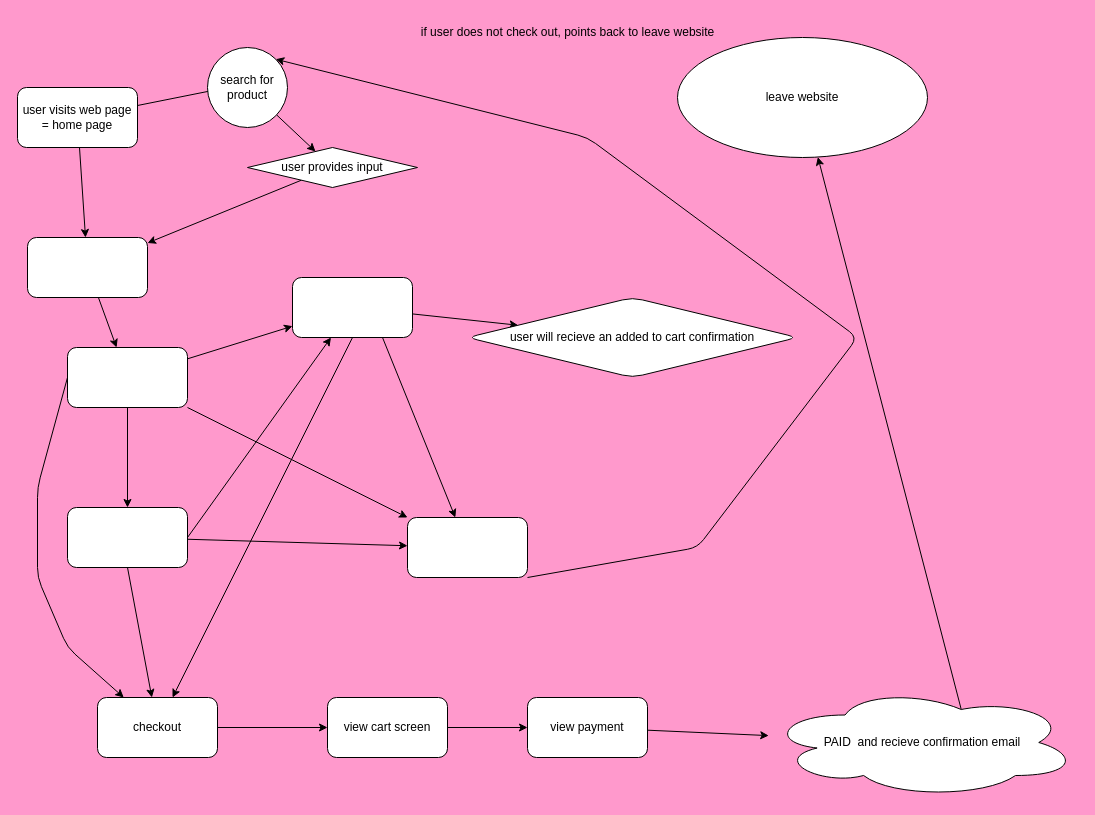
Image size: 1095x815. Some labels were removed from this diagram. Here are the shapes that lost their labels. From the top down, the centre of each, then its label:
At [87,267]: "explore products".
At [352,307]: "add to cart".
At [127,377]: "view product".
At [127,537]: "open specific product webpage".
At [467,547]: "continue shopping".
